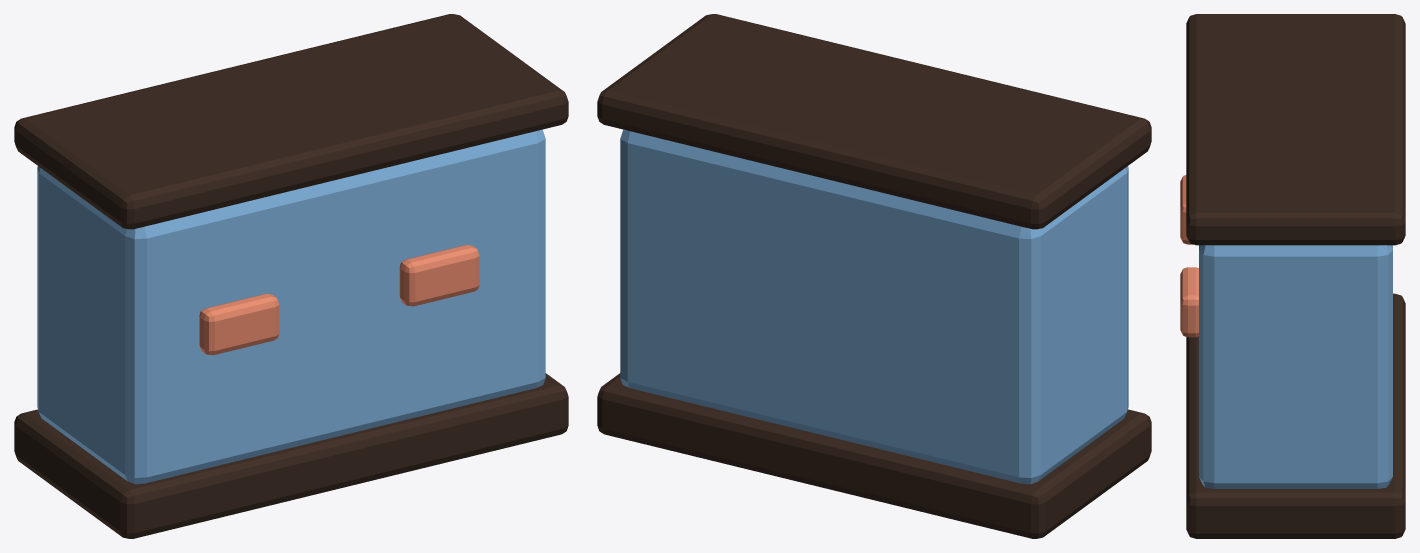
File: prop_akuarium.fbx
3 renders of one model, left to right at view 1: azimuth 30°, elevation 25°; view 2: azimuth 150°, elevation 25°; view 3: azimuth 270°, elevation 25°, orthographic. The views are drawn at different scales.
Parts seen in each view (by area): view 1: prop_akuarium; view 2: prop_akuarium; view 3: prop_akuarium.
Part boxes in pixels (box(x1,y1,x2,y2)): prop_akuarium: box(14, 14, 568, 538); prop_akuarium: box(597, 14, 1151, 538); prop_akuarium: box(1180, 14, 1405, 538).
Size of the model in its own units: 96 by 70.5 by 44.15.
Materials: 1 (1 with a texture image).
